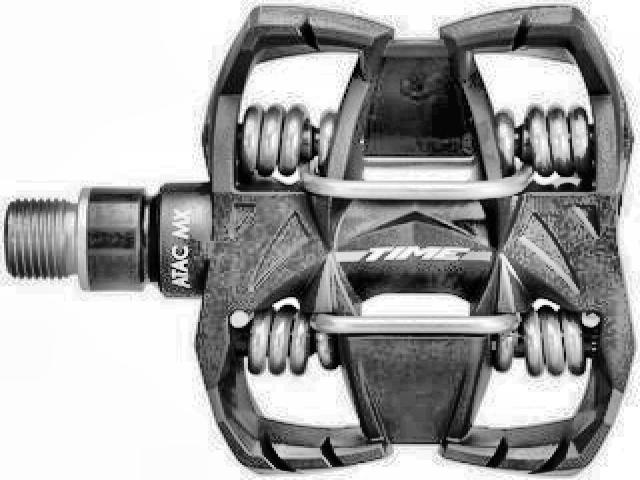pedal: (6, 5, 639, 475)
